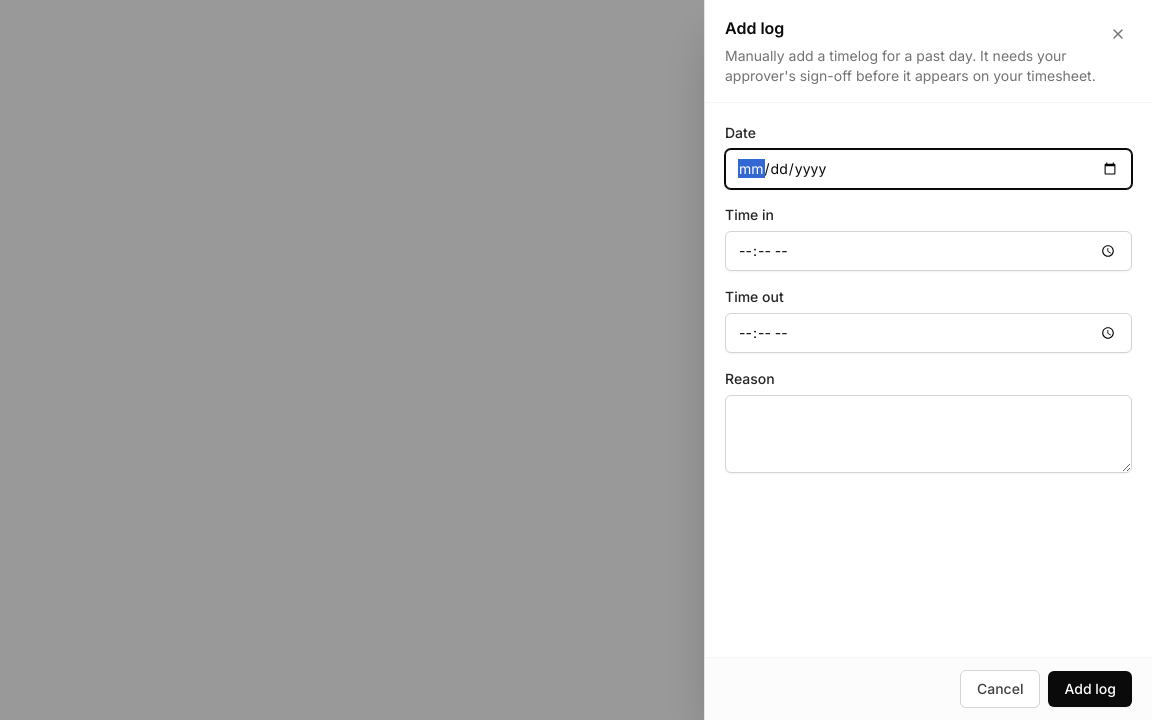
AddLogDrawer › blocks a future date
In the date field labelled "Date": [928, 169] box left=725, top=149, right=1132, bottom=189, type "2099-01-01"
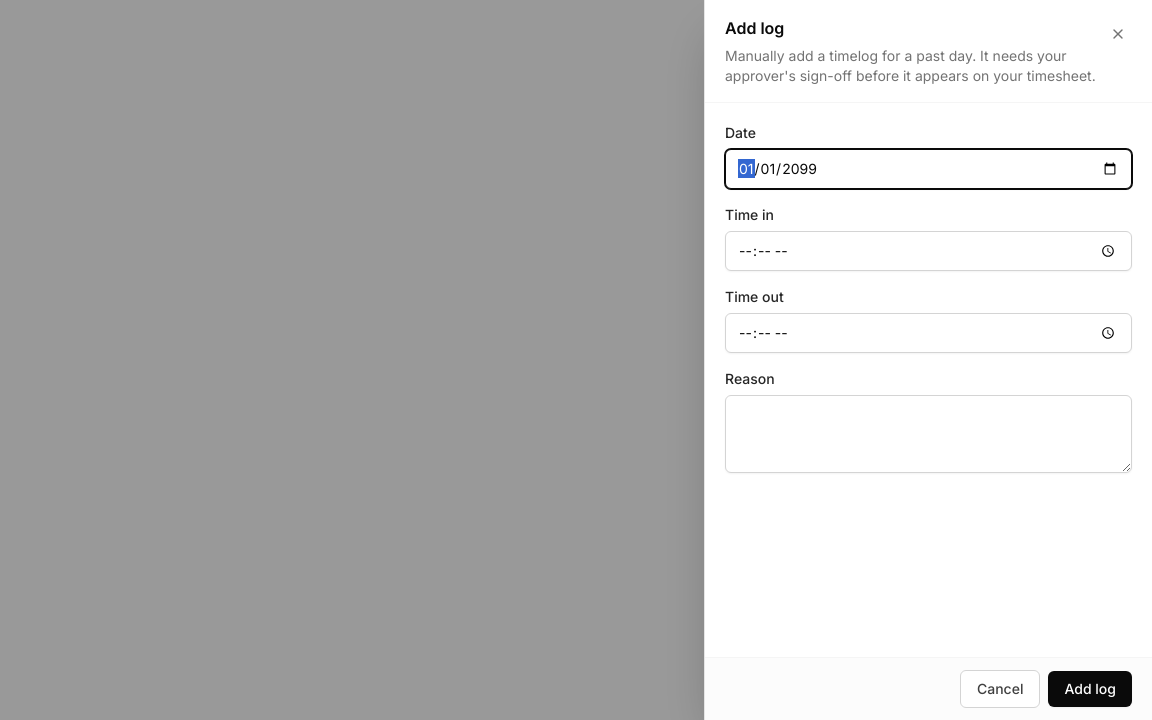
In the time field labelled "Time in": [928, 251] box left=725, top=231, right=1132, bottom=271, type "09:00"
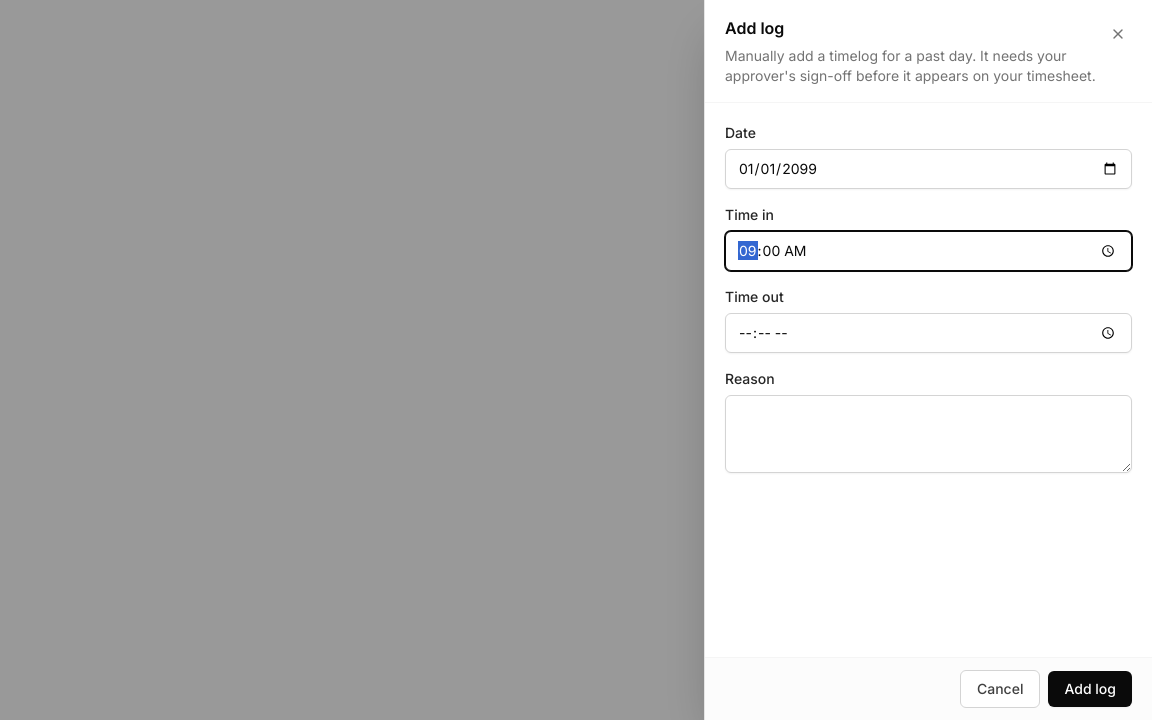
In the time field labelled "Time out": [928, 333] box left=725, top=313, right=1132, bottom=353, type "18:00"
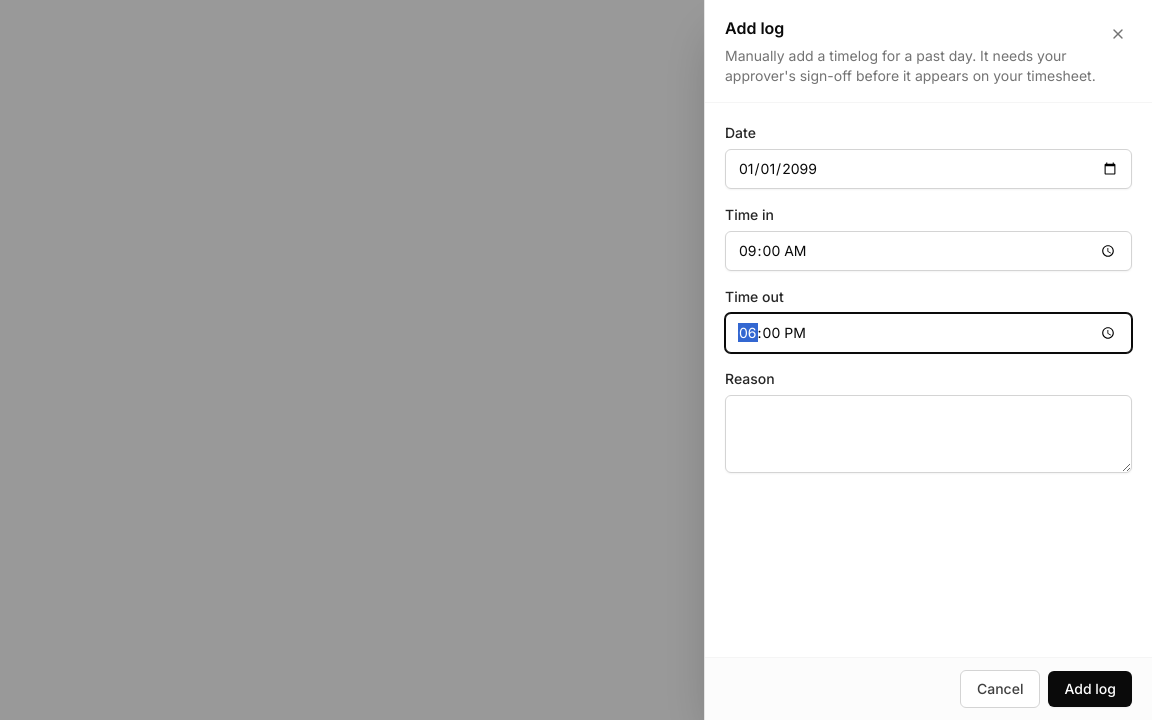
In the text box labelled "Reason": [928, 434] box left=725, top=395, right=1132, bottom=473, type "late entry"
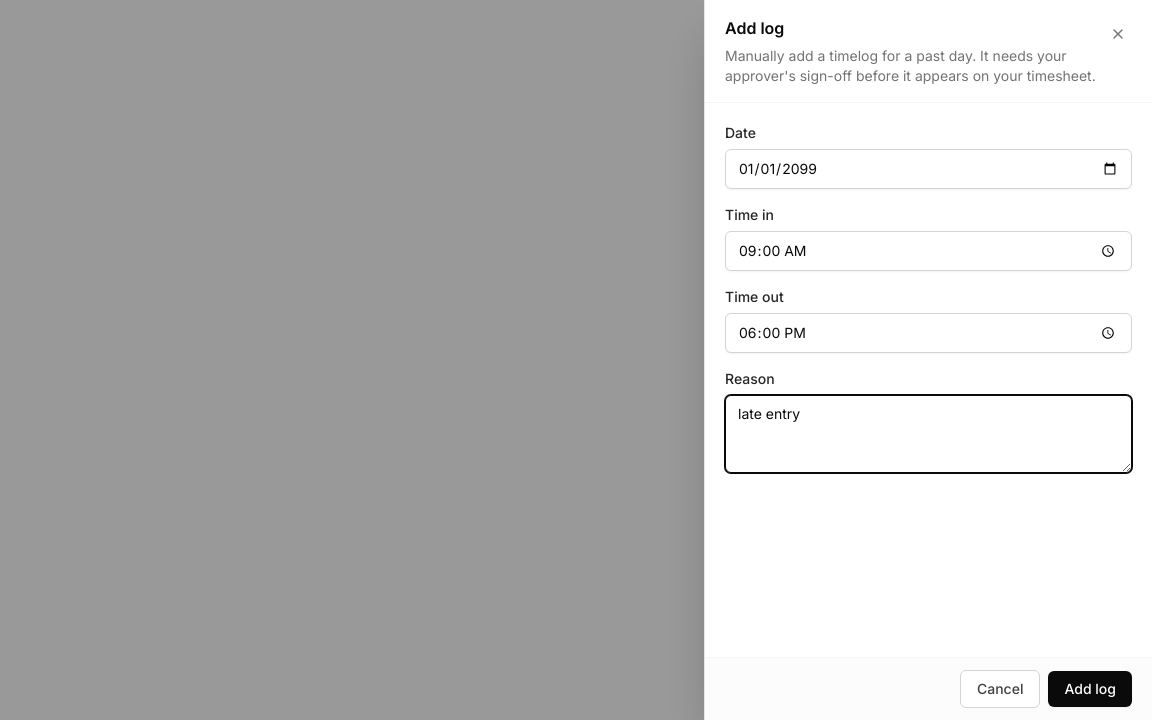
Click the button "Add log": [1090, 689] box left=1048, top=671, right=1132, bottom=707
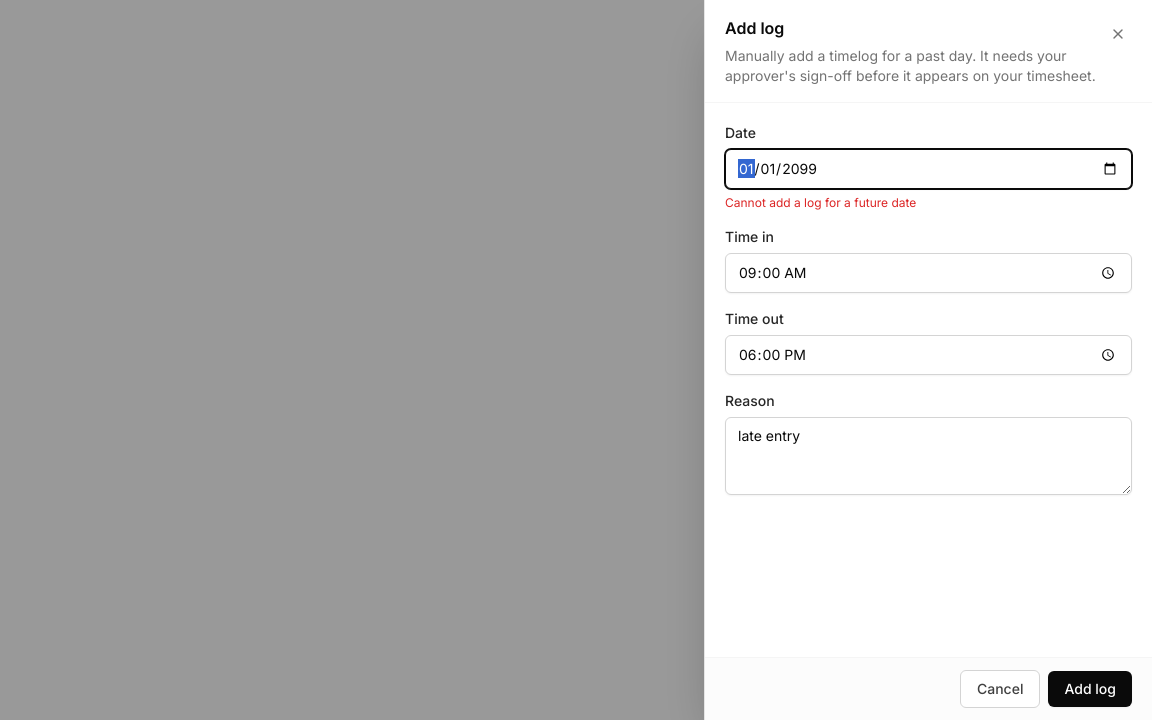
Now the text "Cannot add a log for a future date" is shown, box left=725, top=195, right=916, bottom=210
